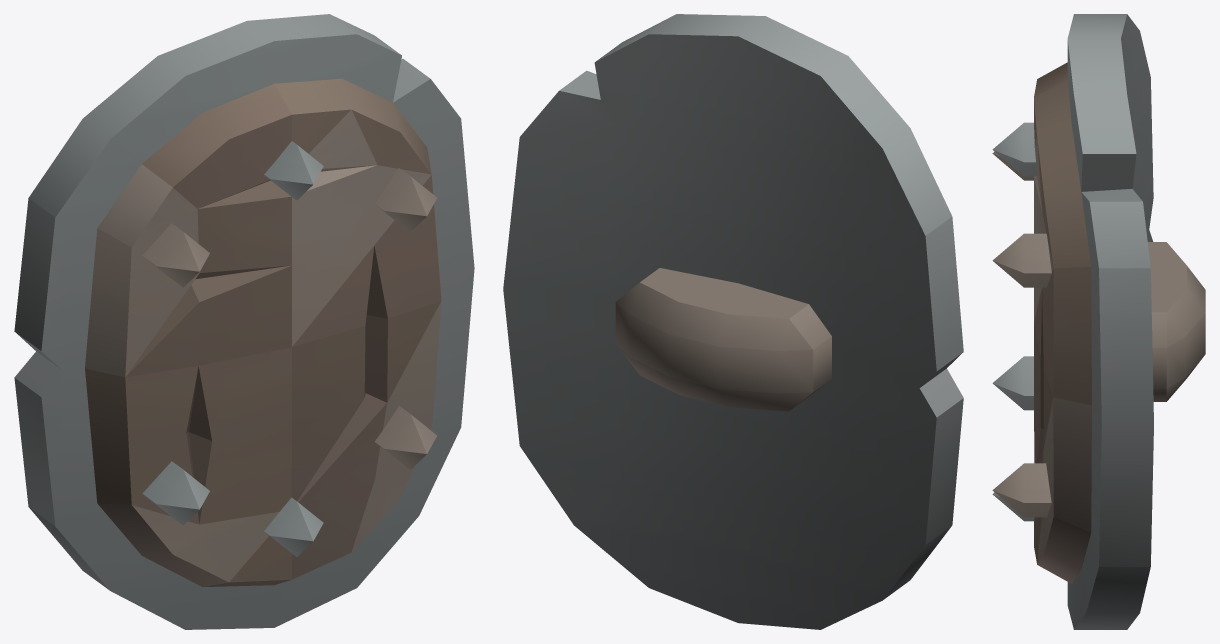
File: w_skeleton_shield_large_b.glb
The picture shows the model from 3 angles, left to right: view 1: azimuth 30°, elevation 25°; view 2: azimuth 150°, elevation 25°; view 3: azimuth 270°, elevation 25°; orthographic projection. The views are drawn at different scales.
Visible parts, largest first — view 1: Skeleton_Shield_Large_B; view 2: Skeleton_Shield_Large_B; view 3: Skeleton_Shield_Large_B.
Part boxes in pixels (x1=…): Skeleton_Shield_Large_B: x1=14, y1=14, x2=474, y2=629; Skeleton_Shield_Large_B: x1=503, y1=14, x2=963, y2=629; Skeleton_Shield_Large_B: x1=992, y1=14, x2=1205, y2=629.
Bounding box in the file's own units: 0.8771 × 1.13 × 0.387.
Materials: 1 (1 with a texture image).
